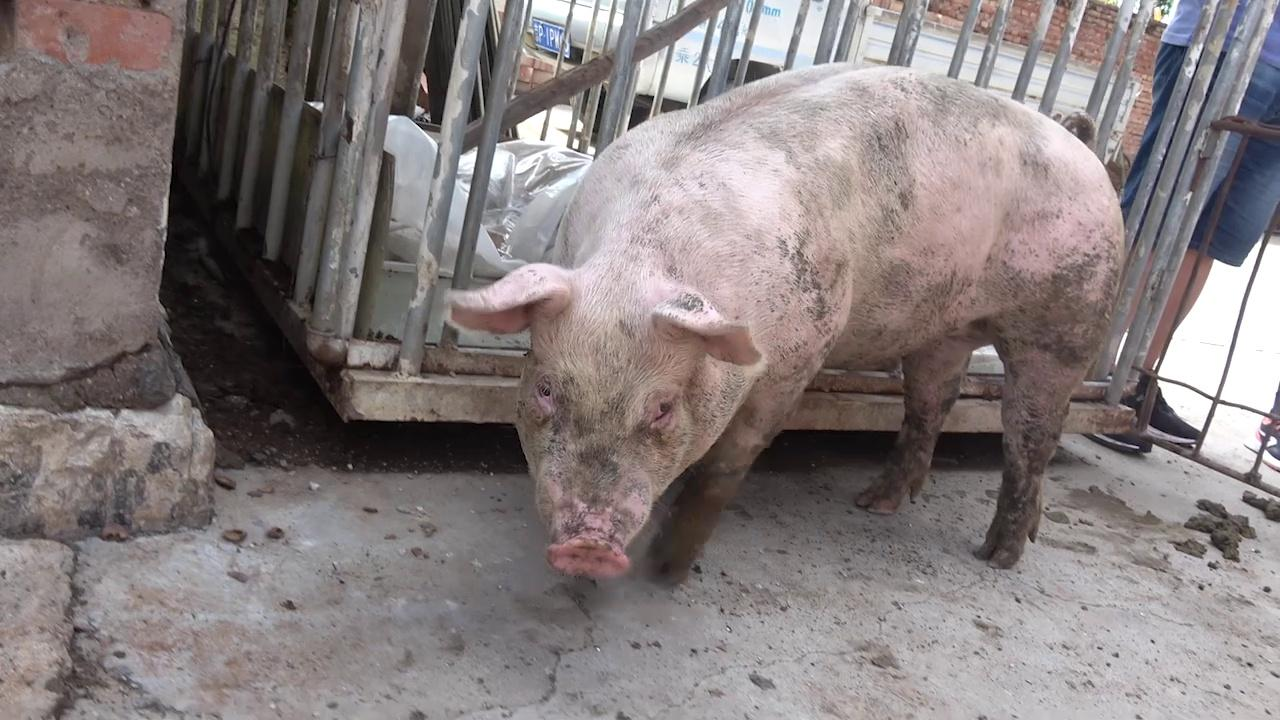Face: (426, 255, 778, 589)
